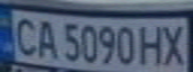0: (115, 23, 139, 66), (78, 21, 100, 64)
5: (57, 19, 81, 63)
9: (97, 21, 118, 65)
A: (30, 16, 60, 60)
C: (9, 14, 42, 57)
H: (136, 21, 166, 66)
X: (157, 20, 190, 68)
